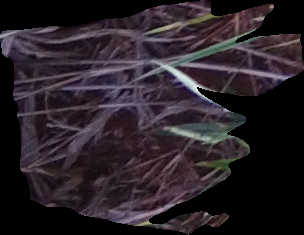soil: (2, 2, 302, 235)
